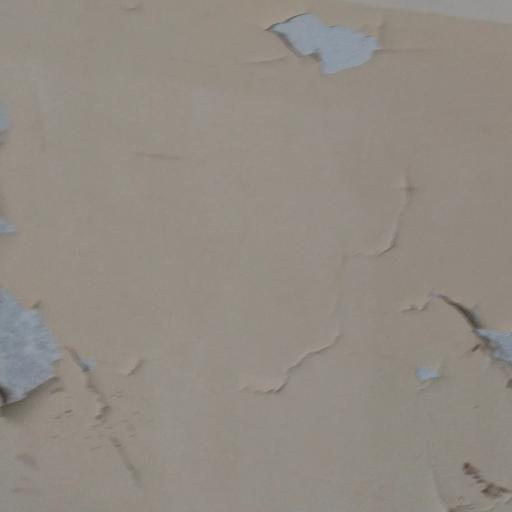peeling: (360, 153, 512, 398), (0, 192, 133, 428), (220, 313, 350, 420), (246, 0, 407, 82), (411, 438, 512, 512)
